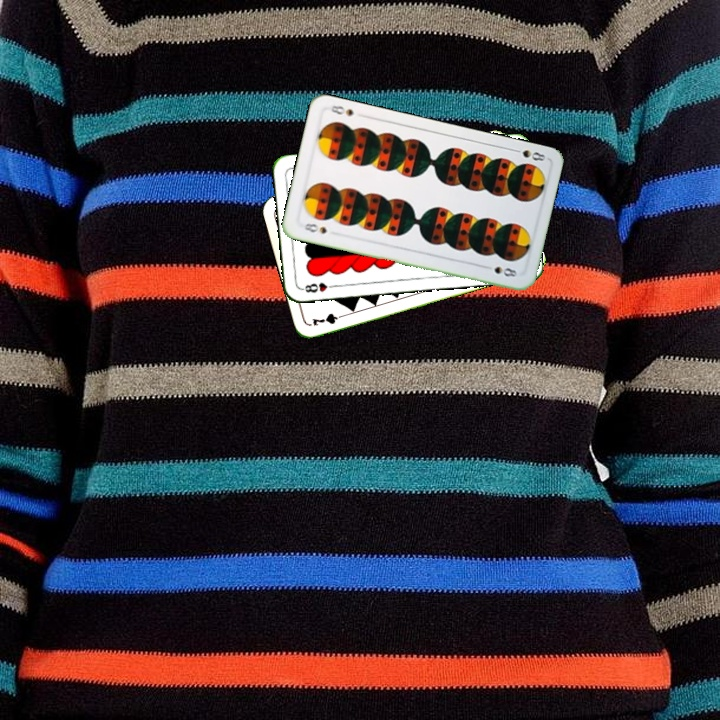G7: (308, 309, 349, 328)
H8: (298, 279, 339, 295)
S8: (508, 145, 547, 164), (300, 219, 329, 236)
